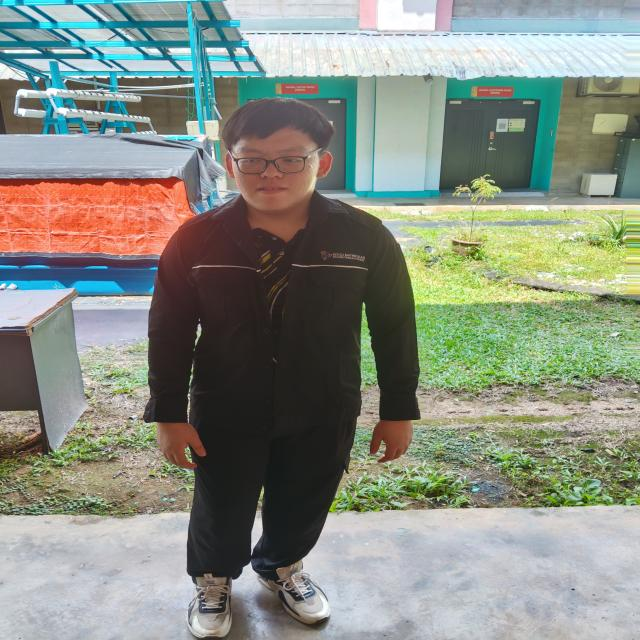person_with_labcoat: (145, 99, 419, 640)
